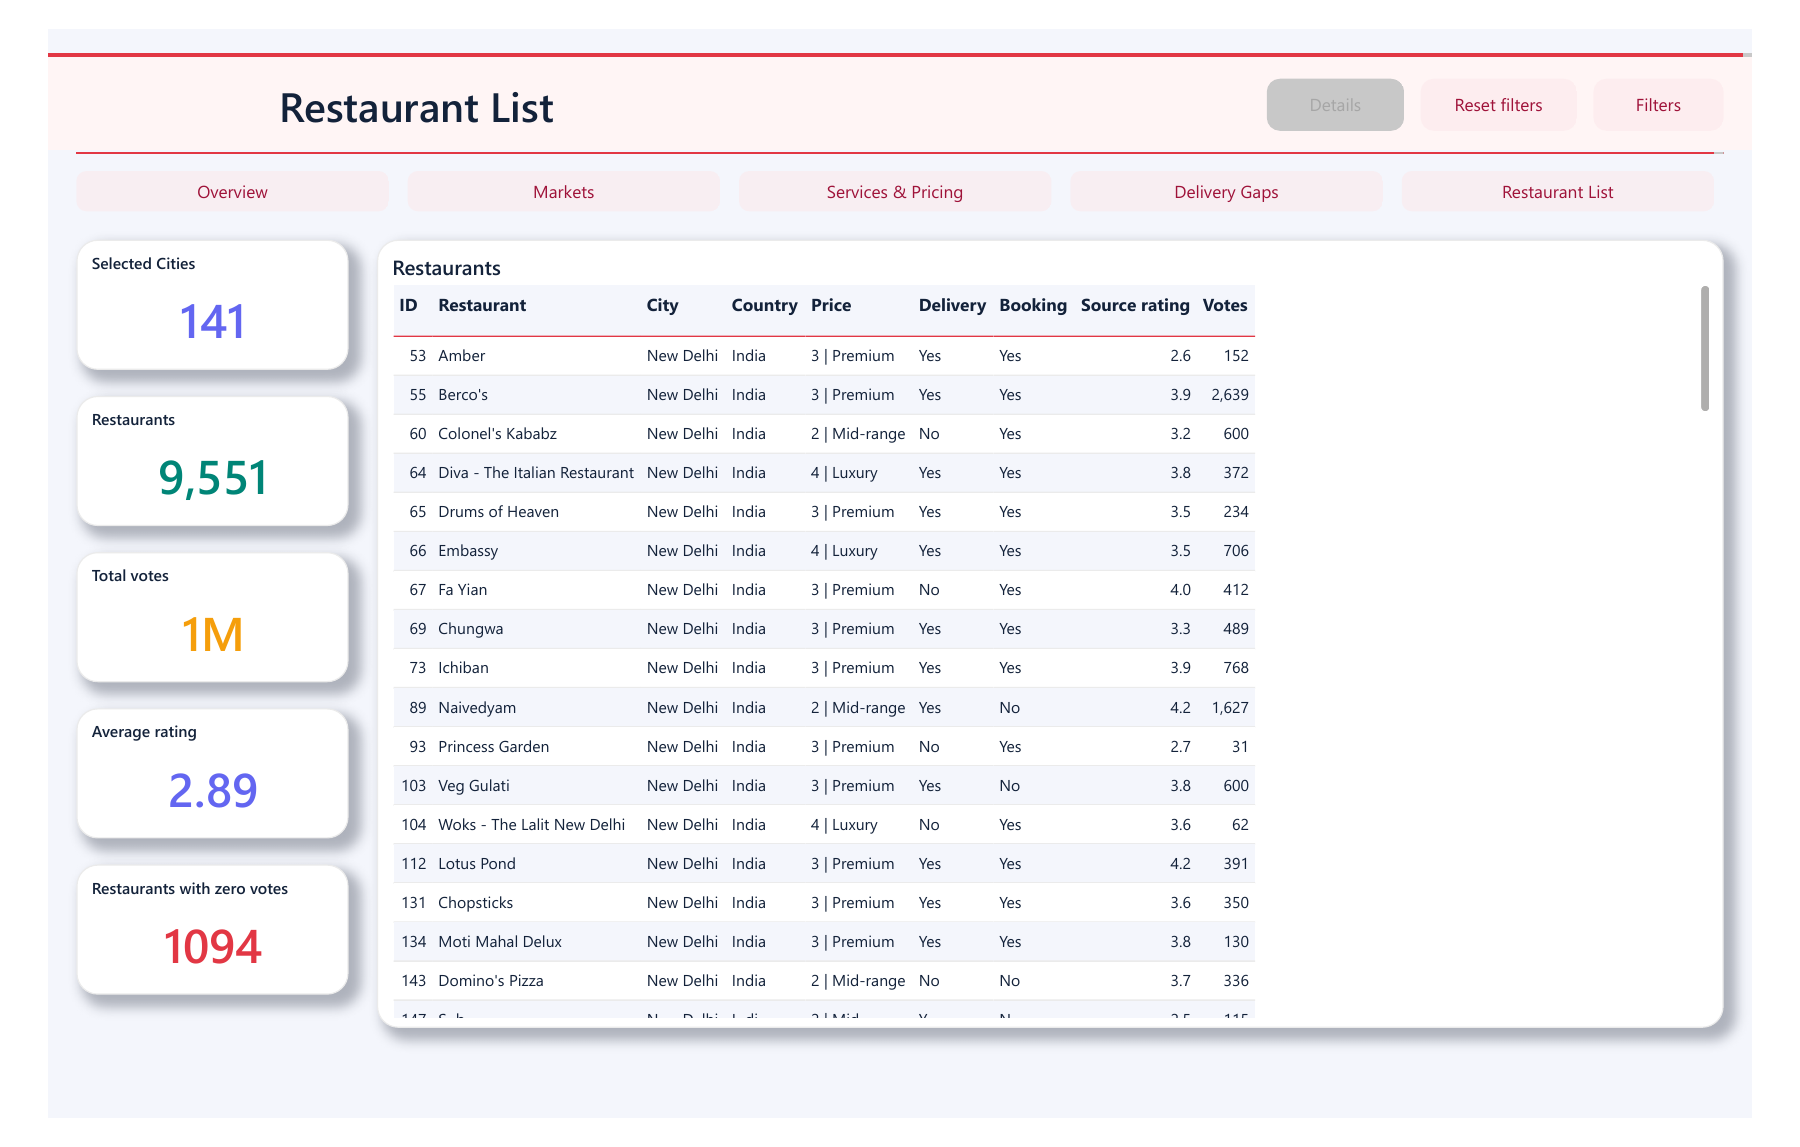

What the dashboard file says about the page in this screenshot:
{"tool":"powerbi","page":{"name":"Restaurant List","canvas":[1440,900],"ordinal":4},"visuals":[{"type":"textbox","box":[0,0,1440,4],"z":0},{"type":"textbox","box":[0,4,1440,78],"z":0},{"type":"textbox","box":[24,84,1392,2],"z":0},{"type":"textbox","box":[196,22,816,48],"z":100},{"type":"card","title":"Selected Cities","fields":{"Values":["Context.Count"]},"box":[24,158,230,110],"z":100},{"type":"card","title":"Restaurants","fields":{"Values":["zomato.Listings"]},"box":[24,290,230,110],"z":105},{"type":"card","title":"Total votes","fields":{"Values":["zomato.Total Votes"]},"box":[24,422,230,110],"z":106},{"type":"card","title":"Average rating","fields":{"Values":["zomato.Average Source Rating"]},"box":[24,554,230,110],"z":107},{"type":"card","title":"Restaurants with zero votes","fields":{"Values":["zomato.Zero Vote Listings"]},"box":[24,686,230,110],"z":108},{"type":"tableEx","title":"Restaurants","fields":{"Values":["zomato.RestaurantID","zomato.RestaurantName","zomato.City","zomato.Country","zomato.PriceTier","zomato.Has_Online_delivery","zomato.Has_Table_booking","zomato.Rating","zomato.Total Votes"]},"box":[278,158,1138,666],"z":109},{"type":"actionButton","box":[1030,22,116,44],"z":5000},{"type":"actionButton","box":[1160,22,132,44],"z":5000},{"type":"actionButton","box":[1306,22,110,44],"z":5000},{"type":"actionButton","box":[24,100,264,34],"z":5000},{"type":"actionButton","box":[304,100,264,34],"z":5000},{"type":"actionButton","box":[584,100,264,34],"z":5000},{"type":"actionButton","box":[864,100,264,34],"z":5000},{"type":"actionButton","box":[1144,100,264,34],"z":5000}]}

Visuals, with their boxes in screenshot pixels (x1, y1, x2, y2), scaled from the page's 1440x900 canvas onto the 1800x1147 screenshot:
textbox: {"left": 0, "top": 0, "right": 1799, "bottom": 5}
textbox: {"left": 0, "top": 5, "right": 1799, "bottom": 105}
textbox: {"left": 30, "top": 107, "right": 1770, "bottom": 110}
textbox: {"left": 245, "top": 28, "right": 1265, "bottom": 89}
"Selected Cities" card: {"left": 30, "top": 201, "right": 318, "bottom": 342}
"Restaurants" card: {"left": 30, "top": 370, "right": 318, "bottom": 510}
"Total votes" card: {"left": 30, "top": 538, "right": 318, "bottom": 678}
"Average rating" card: {"left": 30, "top": 706, "right": 318, "bottom": 846}
"Restaurants with zero votes" card: {"left": 30, "top": 874, "right": 318, "bottom": 1014}
"Restaurants" tableEx: {"left": 348, "top": 201, "right": 1770, "bottom": 1050}
actionButton: {"left": 1288, "top": 28, "right": 1432, "bottom": 84}
actionButton: {"left": 1450, "top": 28, "right": 1615, "bottom": 84}
actionButton: {"left": 1632, "top": 28, "right": 1770, "bottom": 84}
actionButton: {"left": 30, "top": 127, "right": 360, "bottom": 171}
actionButton: {"left": 380, "top": 127, "right": 710, "bottom": 171}
actionButton: {"left": 730, "top": 127, "right": 1060, "bottom": 171}
actionButton: {"left": 1080, "top": 127, "right": 1410, "bottom": 171}
actionButton: {"left": 1430, "top": 127, "right": 1760, "bottom": 171}
